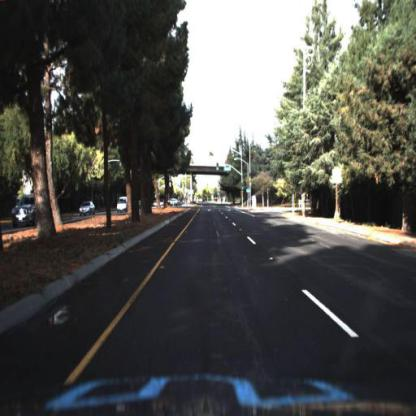car: (11, 194, 42, 230), (80, 201, 97, 219), (118, 195, 131, 212)
